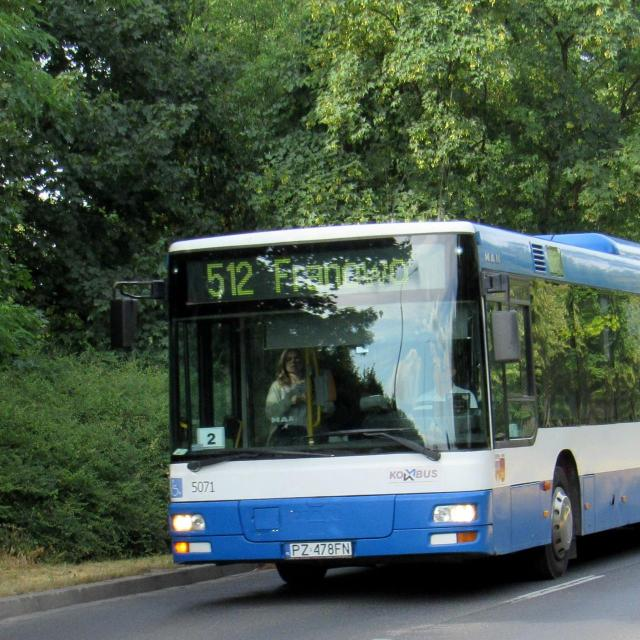Bus: (164, 221, 640, 585)
